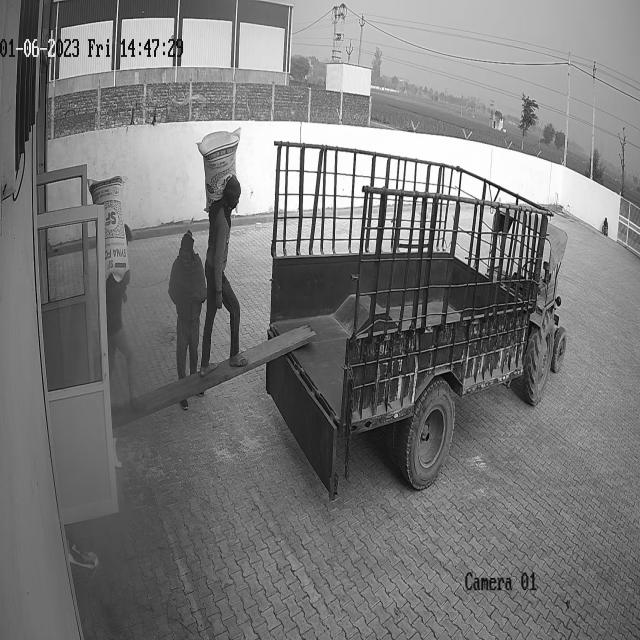sack: (88, 176, 130, 282), (197, 126, 241, 213)
